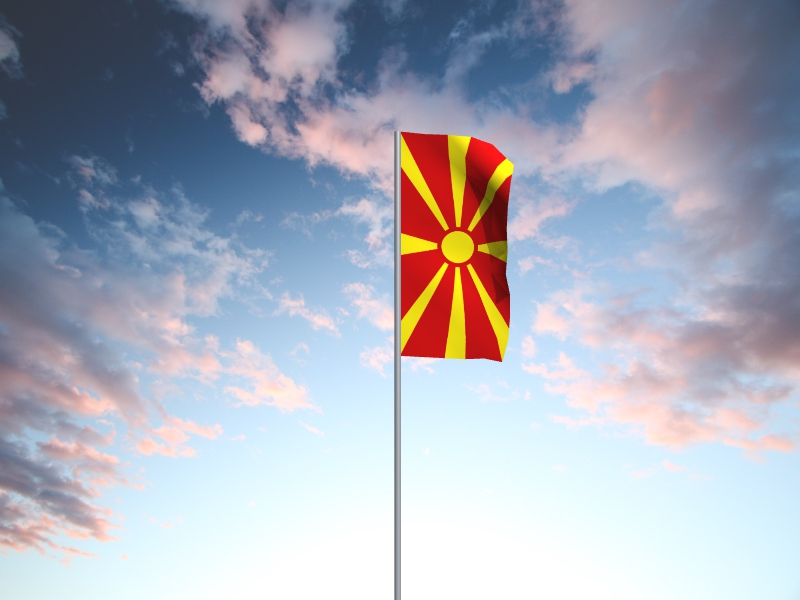mk: (401, 132, 515, 364)
